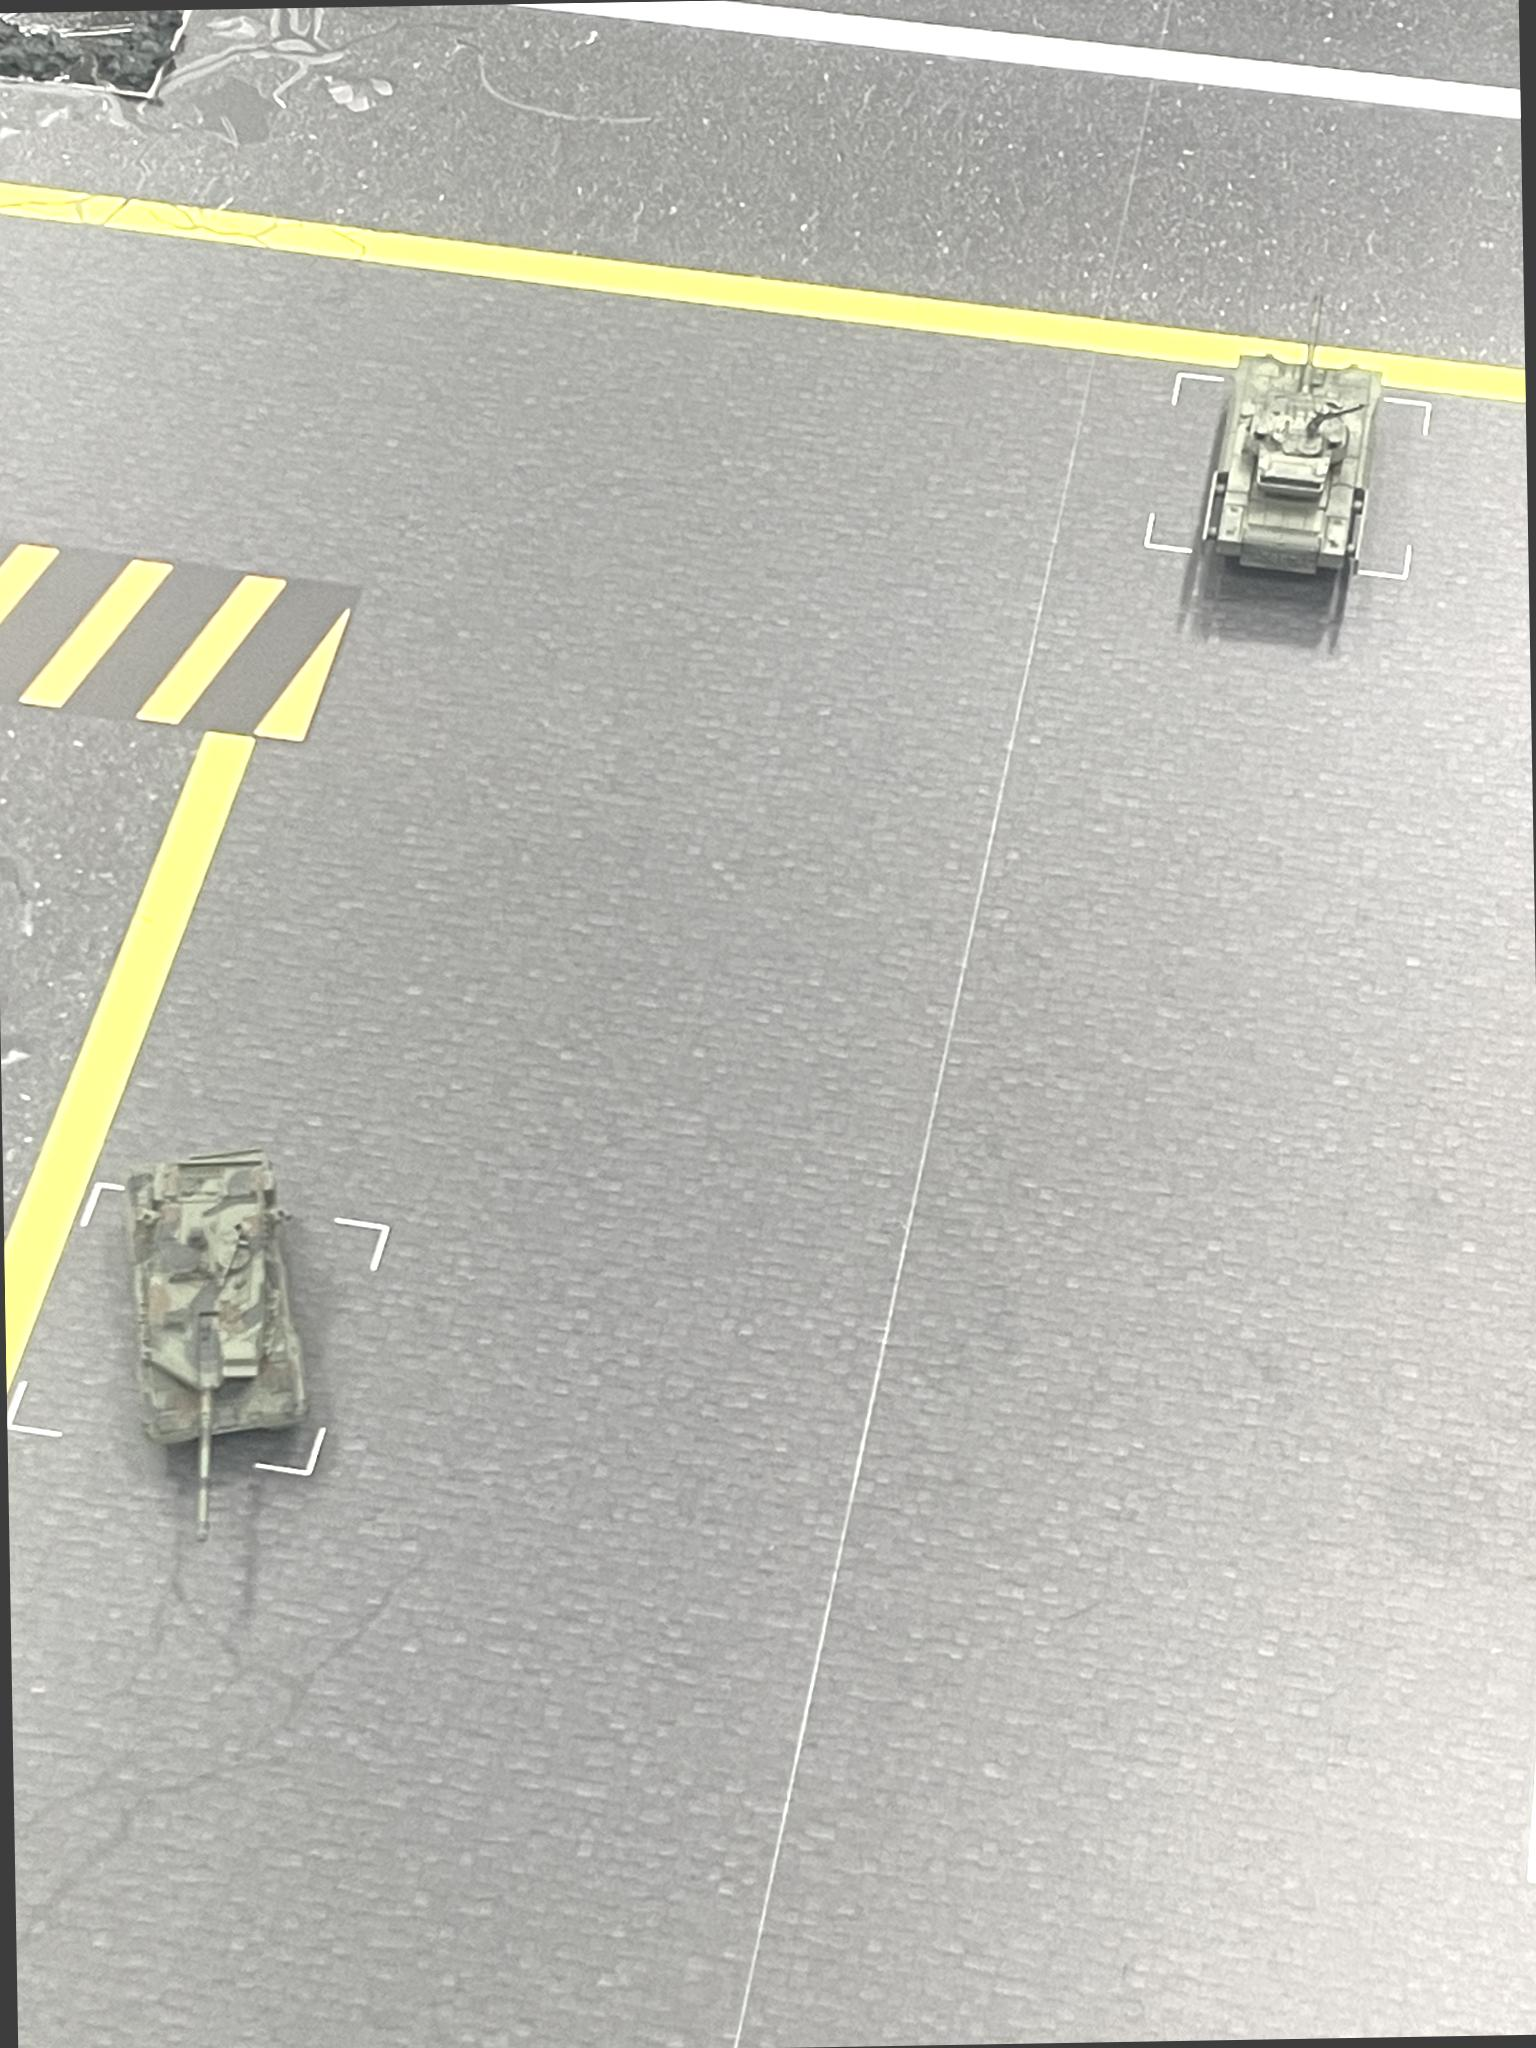Tank: (119, 1135, 319, 1550), (1191, 271, 1400, 622)
